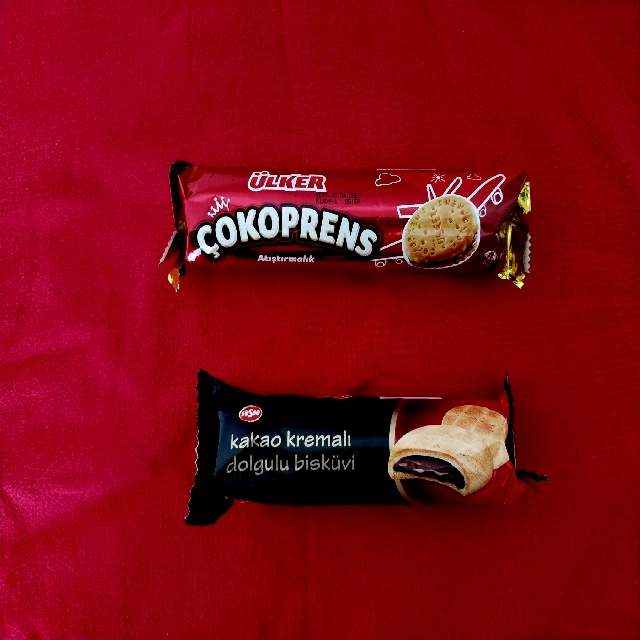susse_biskuvi: (188, 367, 544, 523)
ulker_cokoprens_biskuvi: (160, 161, 529, 288)
